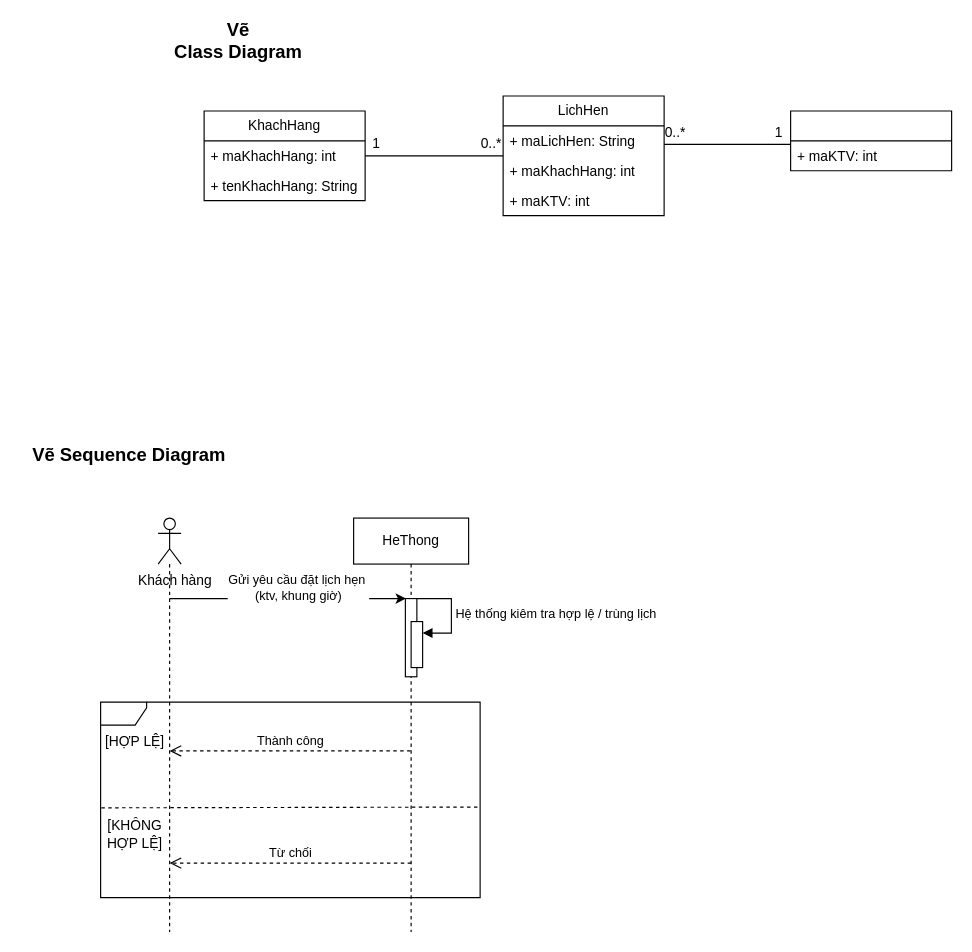
Some shapes in this 972 by 952 pixel diagram are drawn without their labels. Here are the shapes that lost their labels. From the top down, the box of each, then its label:
(789, 110, 952, 171): KyThuatVien
(99, 701, 480, 898): alt
